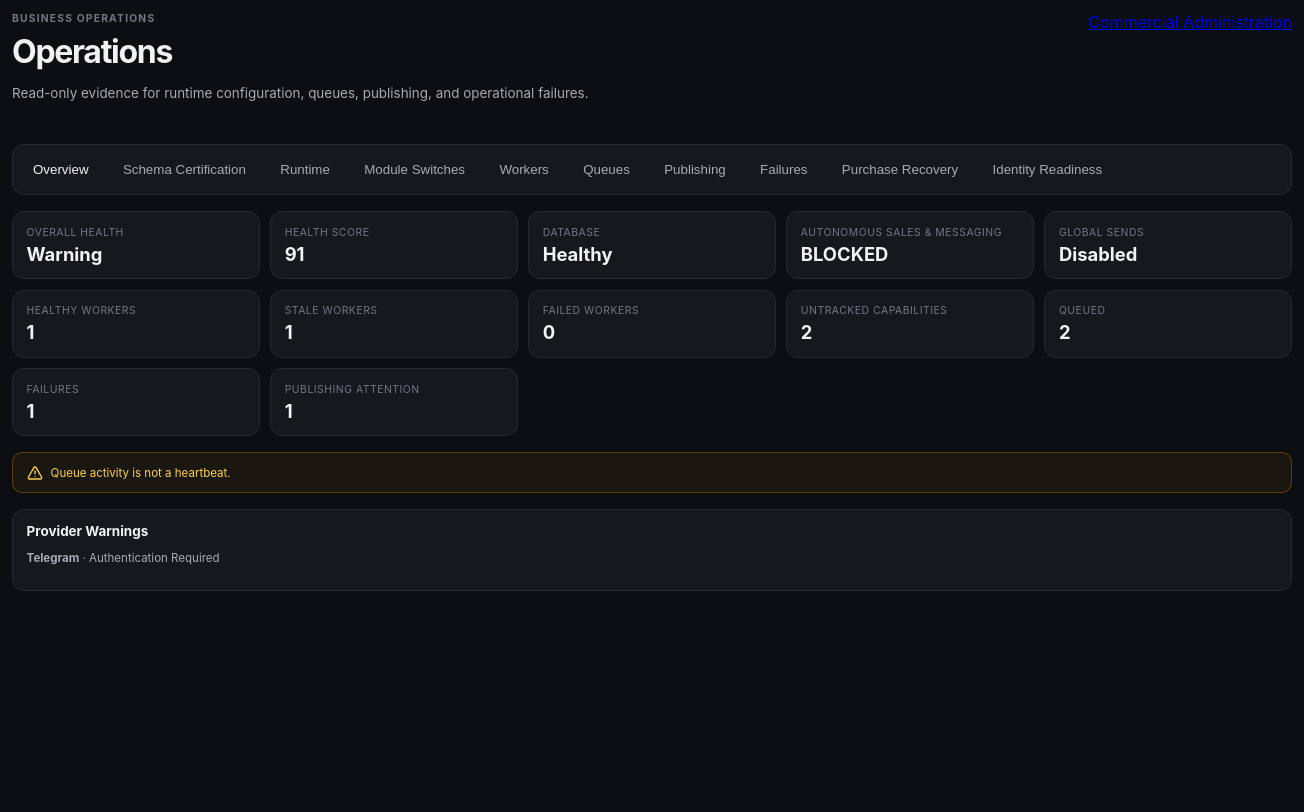
Test: BusinessOperationsPage › renders queues, publishing, and a read-only failure drawer
Expected: the text "Overall Health" is shown, [27, 226, 124, 239]
Click the tab "Queues".
click(607, 169)  # box [569, 150, 644, 188]
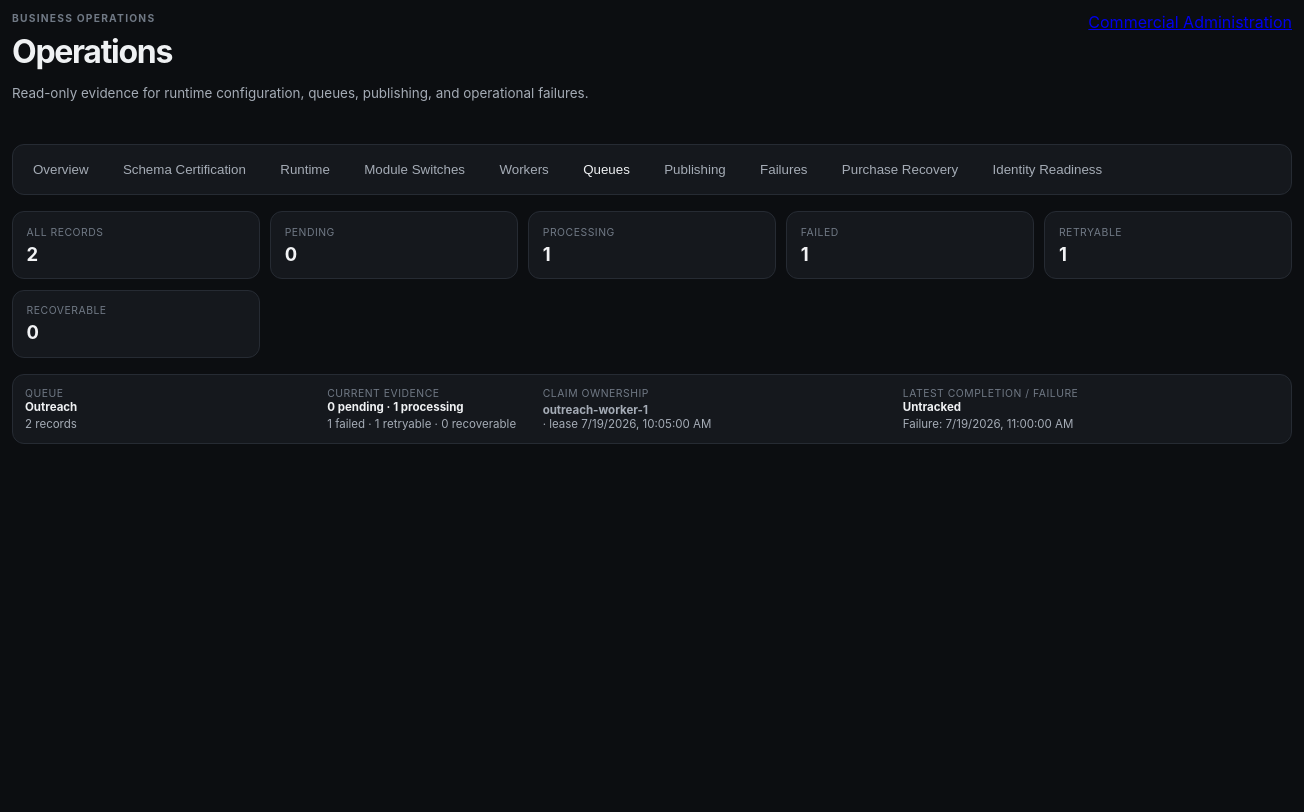
Expected: the text "Outreach" is shown, [25, 400, 77, 414]
Expected: the text "outreach-worker-1" is shown, [543, 403, 648, 417]
Expected: the text "Recoverable" is shown, [27, 304, 107, 317]
Click the tab "Publishing".
click(695, 169)  # box [650, 150, 740, 188]
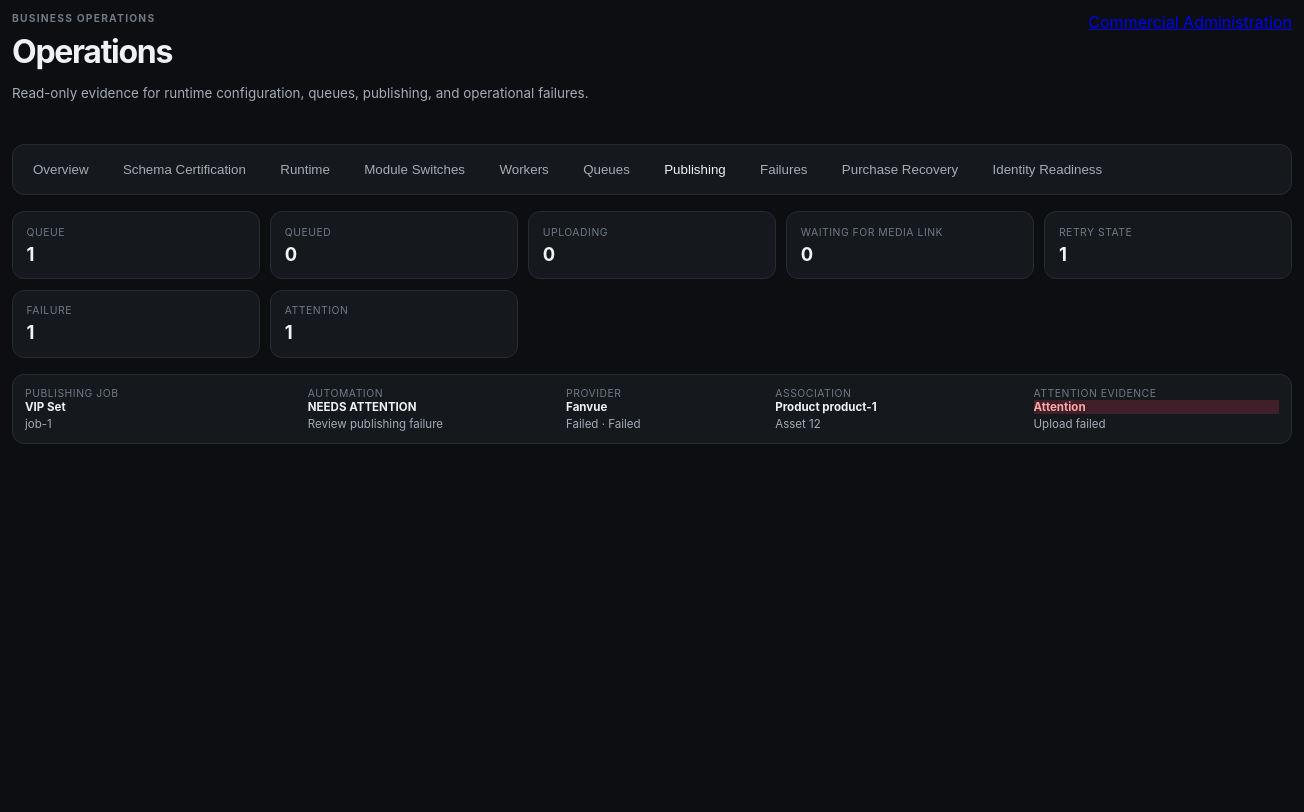
Expected: the text "VIP Set" is shown, [25, 400, 66, 414]
Click the tab "Failures".
click(784, 169)  # box [746, 150, 822, 188]
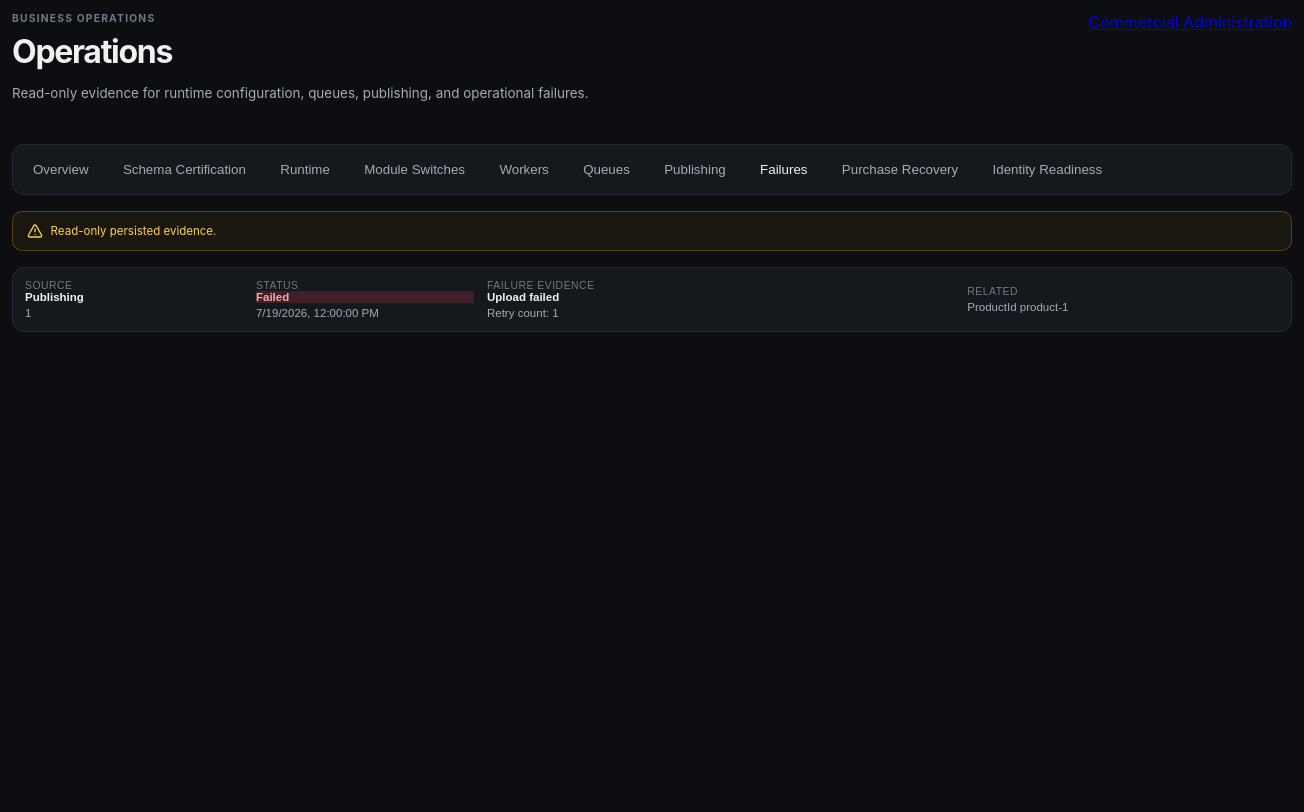
Click the text "Upload failed".
click(523, 297)  # box [487, 291, 559, 303]
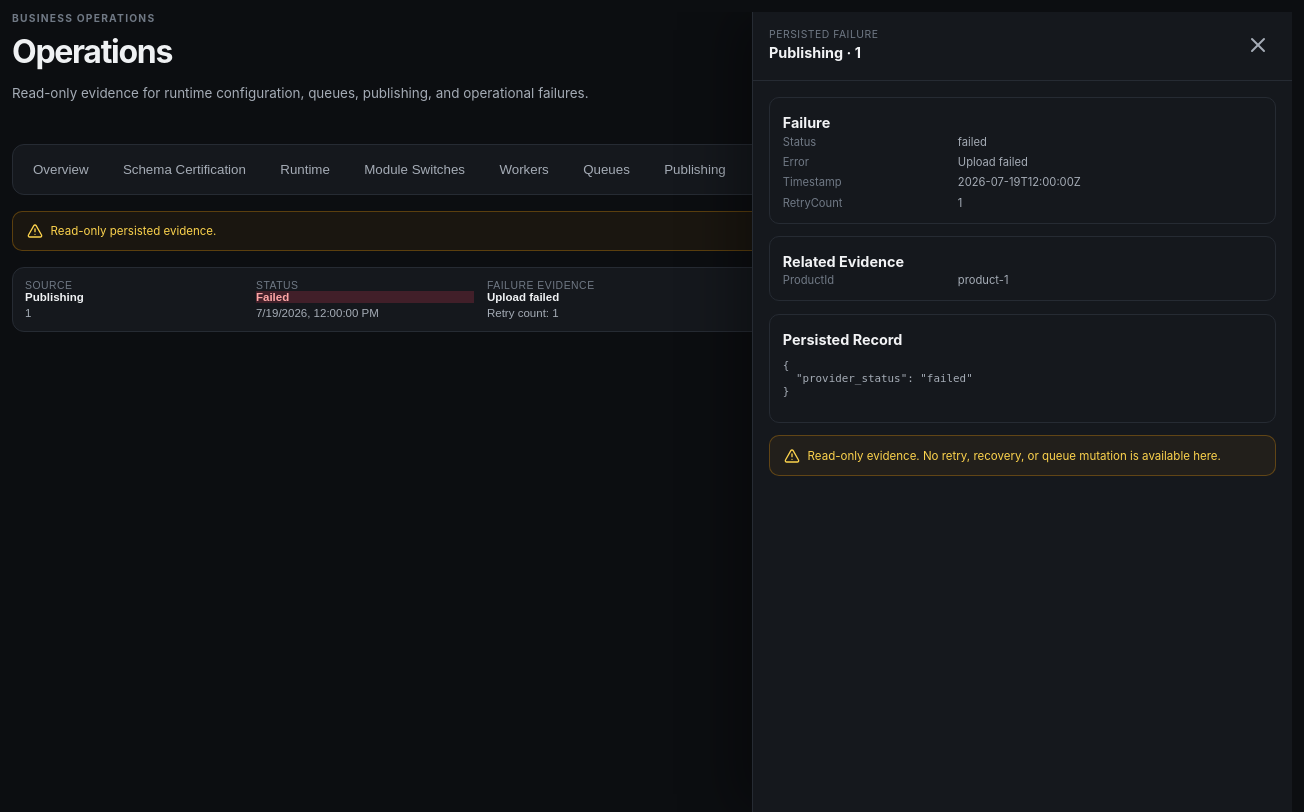
Expected: the element named "Operational failure details" is shown, [752, 12, 1292, 811]
Expected: the text "No retry, recovery, or queue mutation" is shown, [808, 449, 1221, 463]
